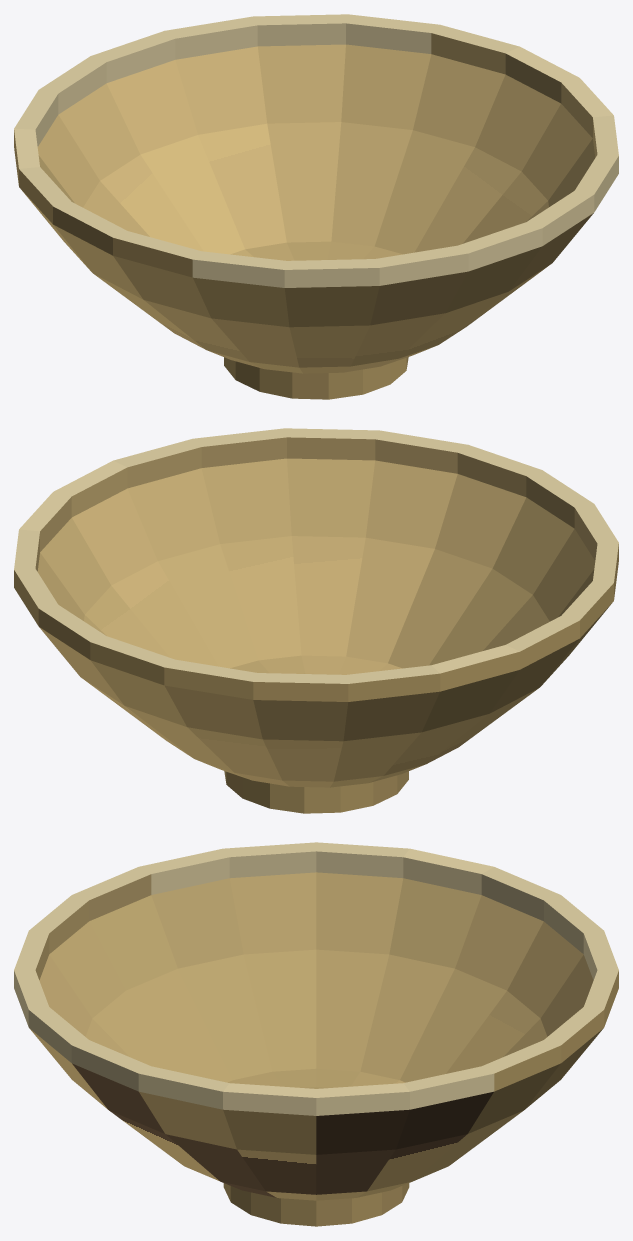
The model's file is vessel-karatsu.glb.
3 views of the same model, one above another, from view 1: azimuth 30°, elevation 25°; view 2: azimuth 150°, elevation 25°; view 3: azimuth 270°, elevation 25° (orthographic).
Parts seen in each view (by area): view 1: vessel-karatsu/complete-inner-outer-shell-with-drainage, vessel-karatsu/complete-open-foot-ring; view 2: vessel-karatsu/complete-inner-outer-shell-with-drainage, vessel-karatsu/complete-open-foot-ring; view 3: vessel-karatsu/complete-inner-outer-shell-with-drainage, vessel-karatsu/complete-open-foot-ring.
Part boxes in pixels (bbox=[...]): vessel-karatsu/complete-inner-outer-shell-with-drainage: bbox=[14, 14, 618, 373]; vessel-karatsu/complete-open-foot-ring: bbox=[224, 357, 408, 399]; vessel-karatsu/complete-inner-outer-shell-with-drainage: bbox=[14, 428, 618, 787]; vessel-karatsu/complete-open-foot-ring: bbox=[224, 771, 408, 813]; vessel-karatsu/complete-inner-outer-shell-with-drainage: bbox=[14, 842, 618, 1200]; vessel-karatsu/complete-open-foot-ring: bbox=[223, 1183, 409, 1226].
Bounding box in the file's own units: 0.366 × 0.145 × 0.366.
Materials: 1 (1 with a texture image).
